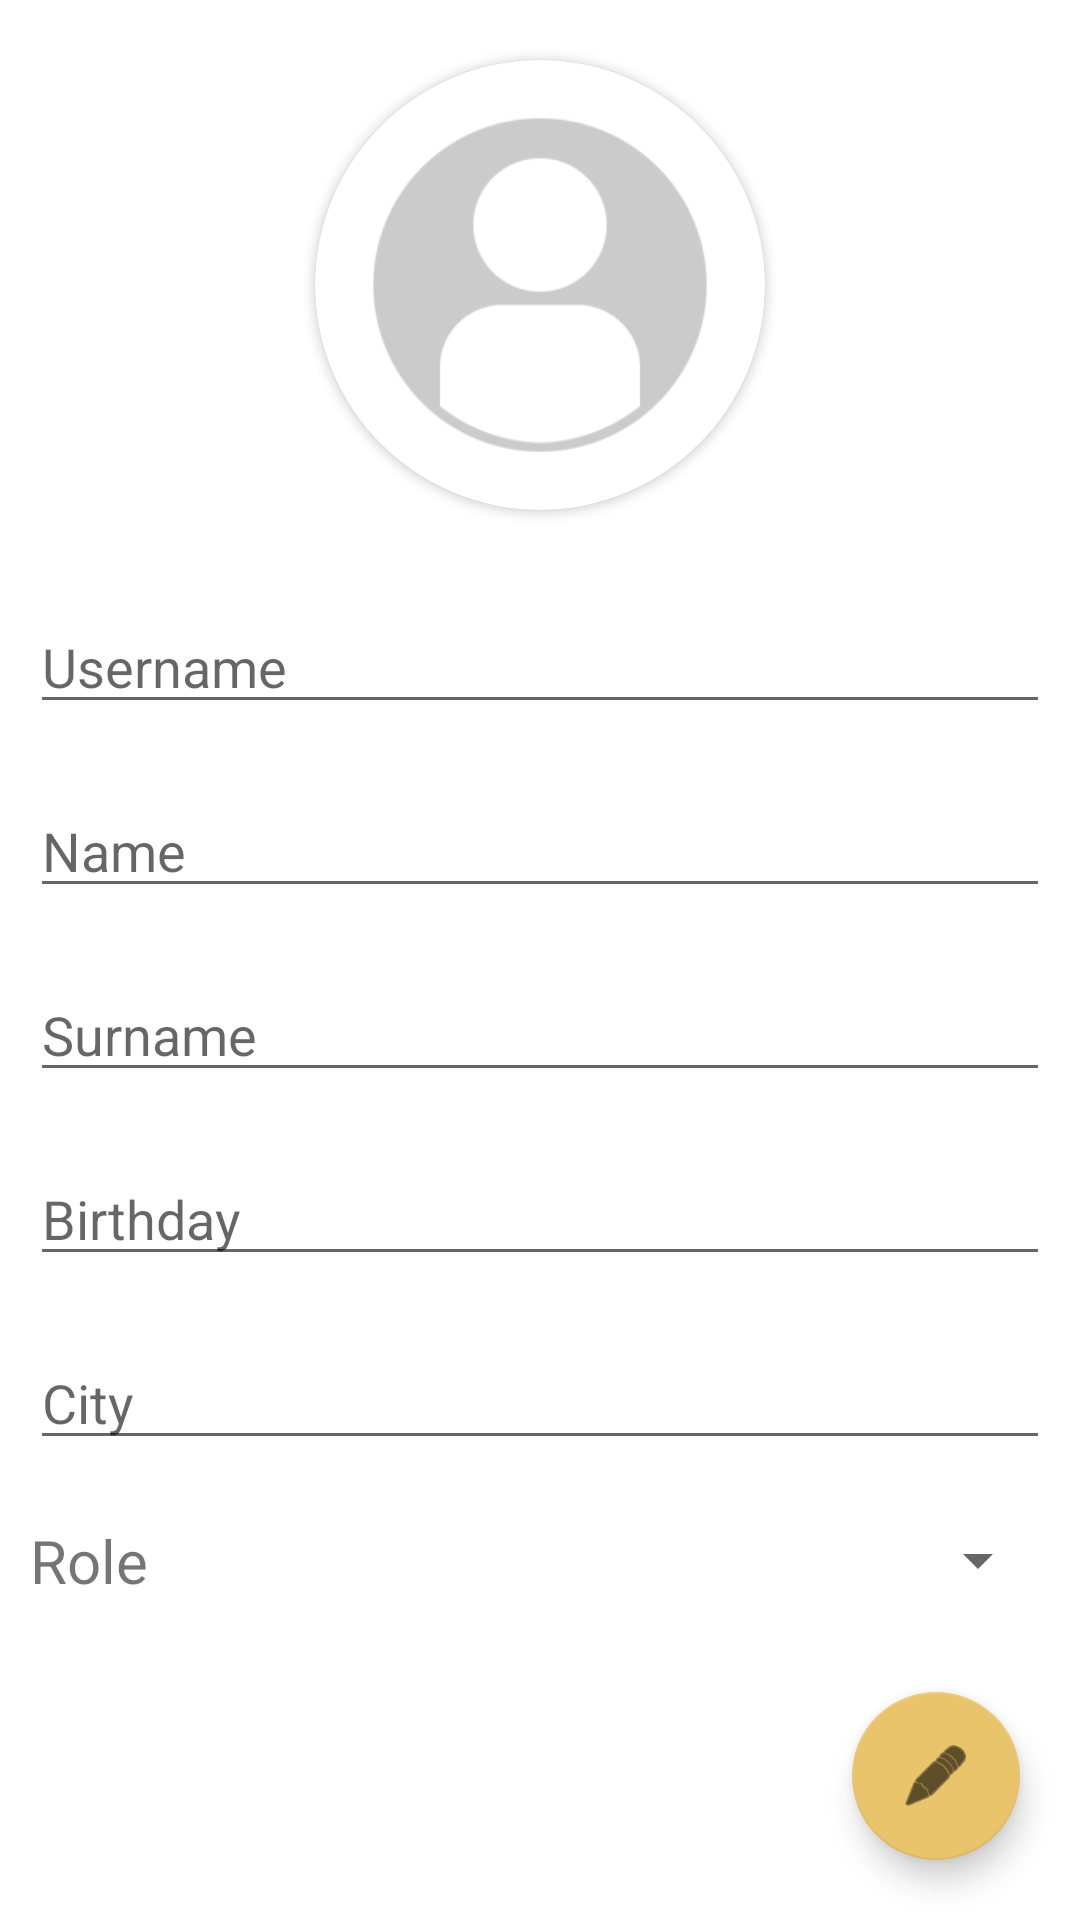

Named icons in this screenshot (1080 x 1920) and their bounding boxes, {"left": x1, "top": y1, "right": x2, "bottom": y2}:
edit: {"left": 852, "top": 1692, "right": 1020, "bottom": 1860}
